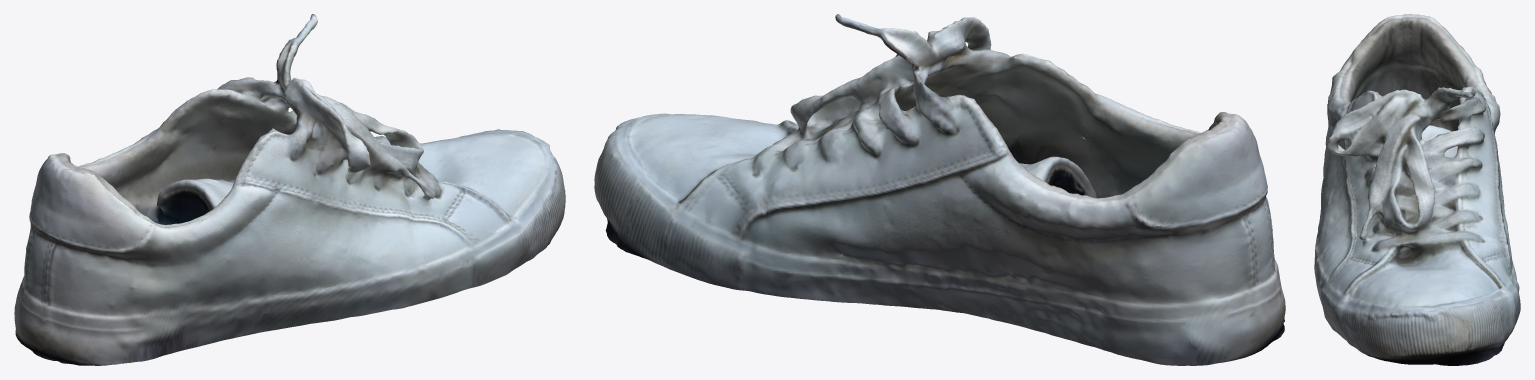
Rendered from product_8.glb.
The picture shows the model from 3 angles, left to right: view 1: azimuth 30°, elevation 25°; view 2: azimuth 150°, elevation 25°; view 3: azimuth 270°, elevation 25°; orthographic projection. The views are drawn at different scales.
Parts seen in each view (by area): view 1: mesh_main_0; view 2: mesh_main_0; view 3: mesh_main_0.
Part boxes in pixels (x1,y1,x2,y2): mesh_main_0: (14,14,565,365); mesh_main_0: (594,14,1285,365); mesh_main_0: (1314,14,1520,365).
Size of the model in its own units: 0.2712 by 0.1078 by 0.1047.
1 material, 1 textured.
